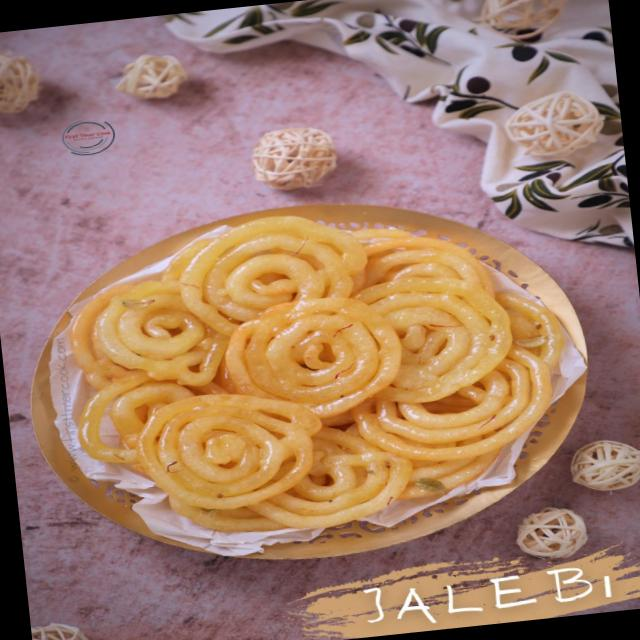jalebi: (24, 199, 578, 556)
